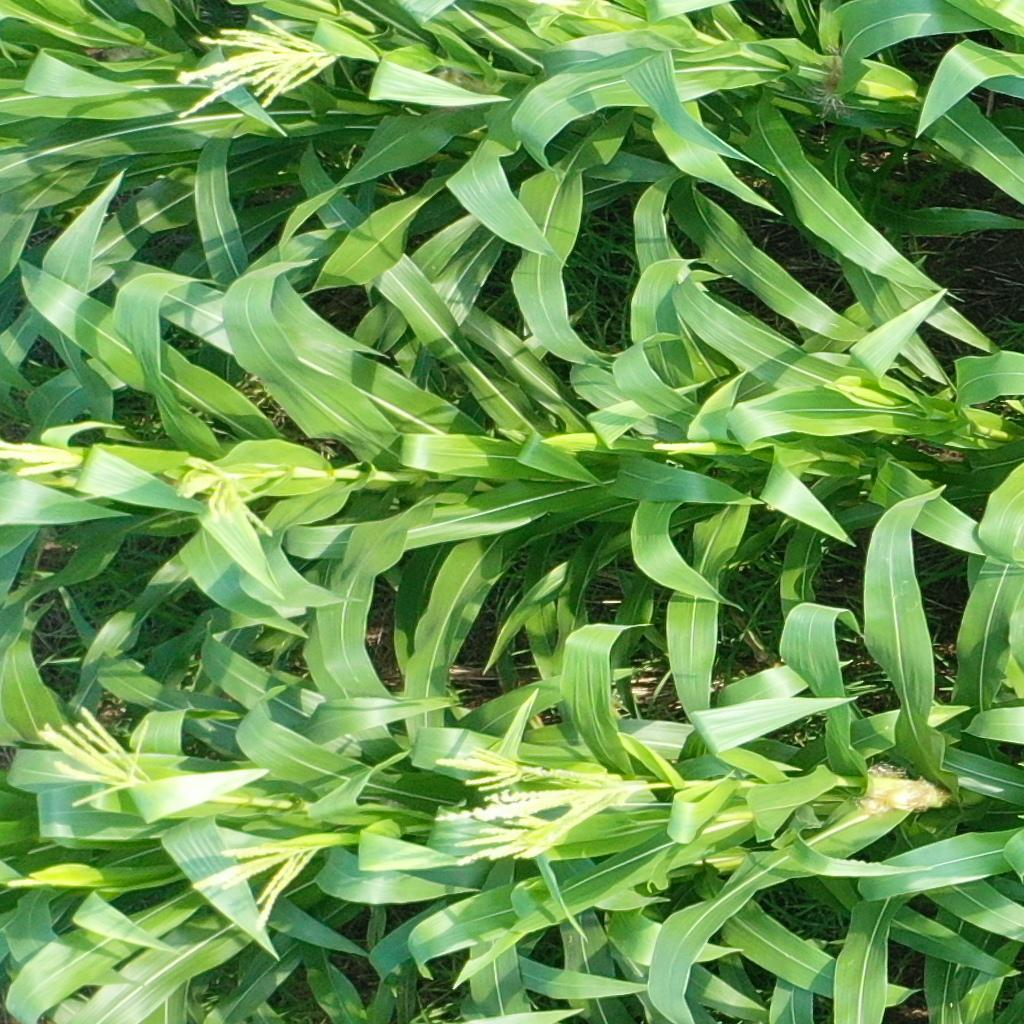Tassel: (161, 9, 337, 125), (429, 783, 632, 870), (182, 830, 326, 928), (35, 702, 154, 809), (429, 738, 612, 793), (166, 451, 282, 537), (1, 429, 84, 486), (527, 1, 614, 23), (2, 872, 43, 894), (647, 437, 701, 452)
